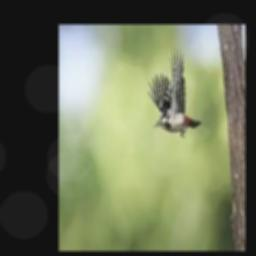Woodpecker: (147, 45, 201, 137)
